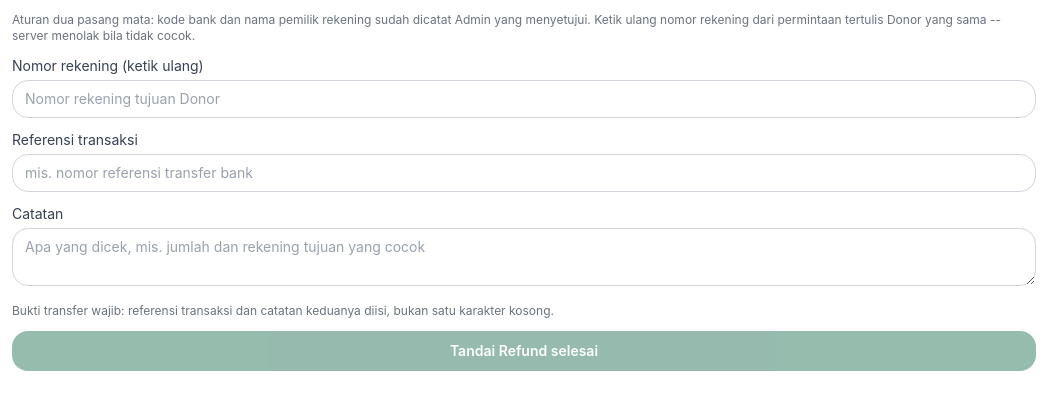
Test case: AdminRefundCompleteForm › shows the server refusal in its own words, including a destination mismatch
The width and height of the screenshot is (1048, 418).
Type "1234567890" into the field labelled "Nomor rekening (ketik ulang)" at [524, 99], box [12,80,1036,118]
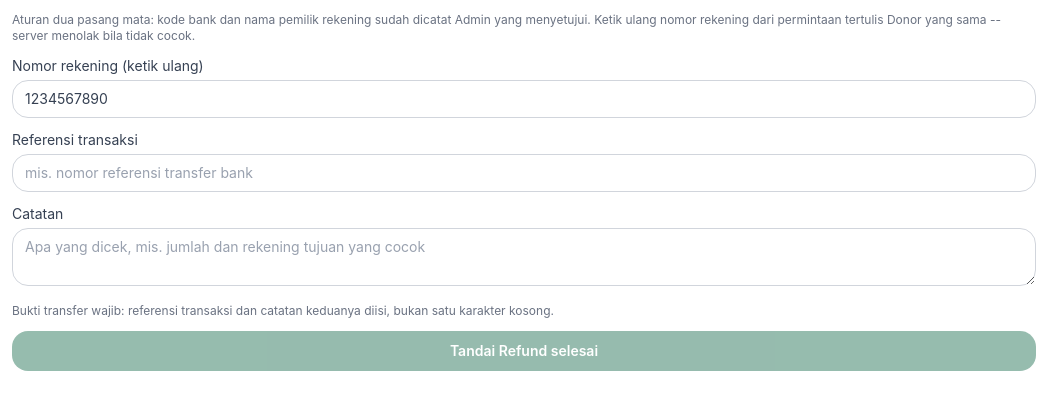
Type "TRX-1" into the field labelled "Referensi transaksi" at [524, 173], box [12,154,1036,192]
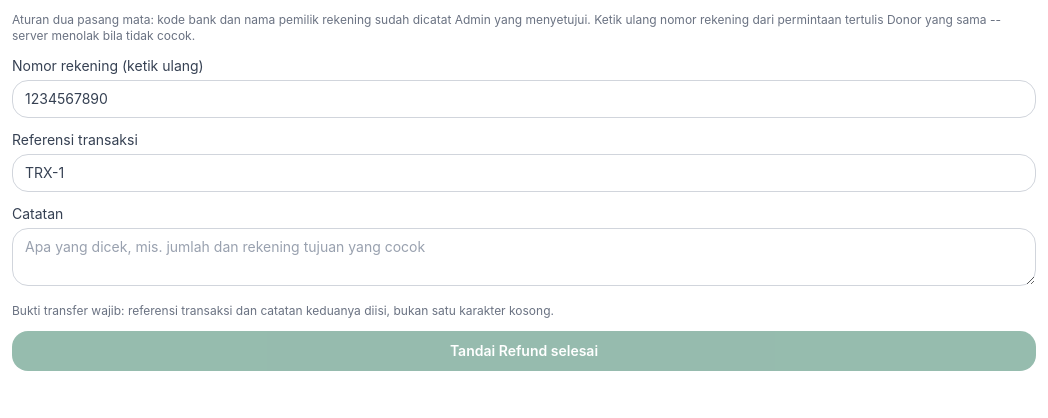
Type "Ditransfer via mobile banking BCA, dicocokkan dengan nama dan rekening Donor." into the text box labelled "Catatan" at [524, 257], box [12,228,1036,286]
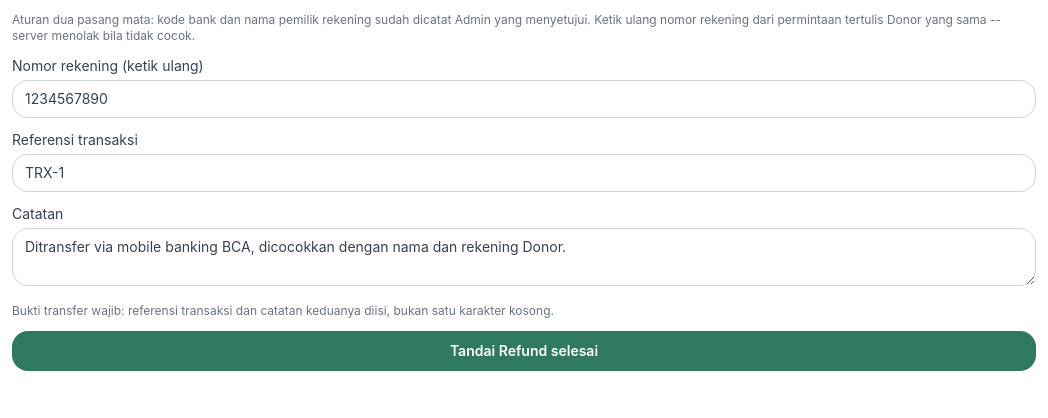
Click the button "Tandai Refund selesai" at [524, 351], box [12,331,1036,371]
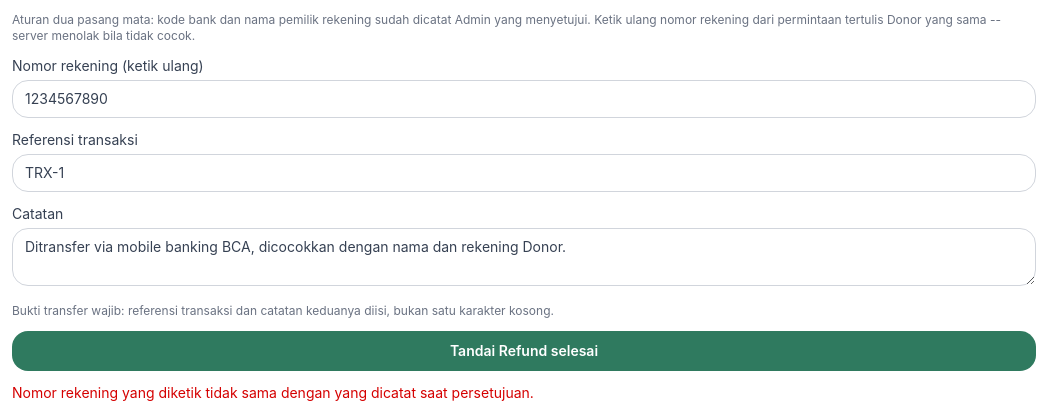
Result: the message reads "Nomor rekening yang diketik tidak sama dengan yang dicatat saat persetujuan." at [12,384,534,401]
